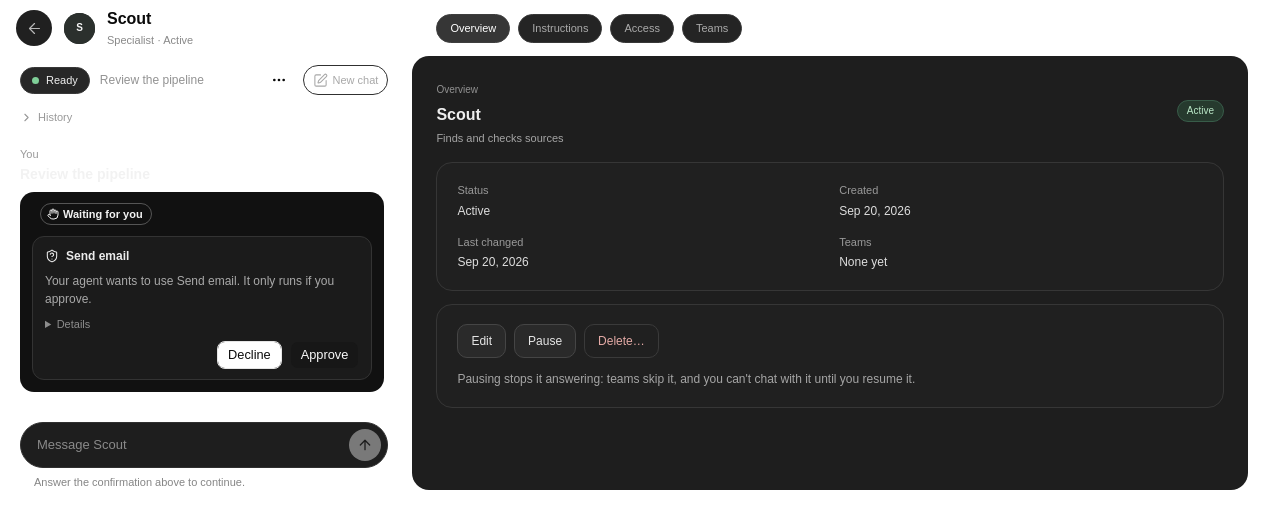
A specialist's focused view › answers a specialist's confirmation in the chat request's body
Expected: the text box labelled "Message Scout" is disabled, [37,430,341,460]
Expected: the text "Answer the confirmation above to continue." is shown, [34,476,245,488]
Click the button "Approve" at (325, 355), box [290,341,359,369]
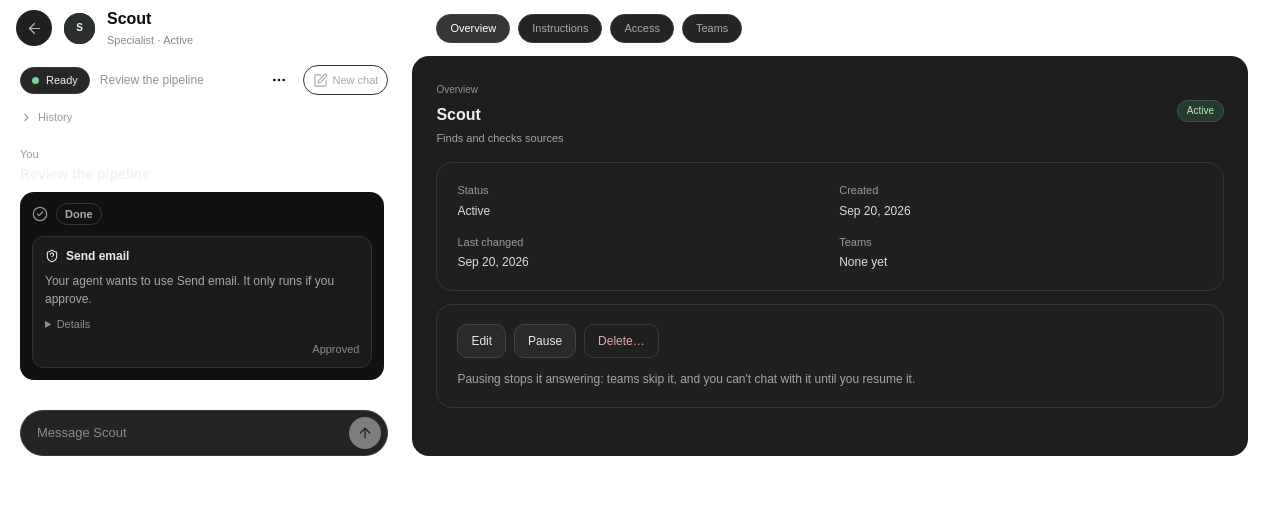
Result: the text "Approved" is shown at [312,341,359,357]
